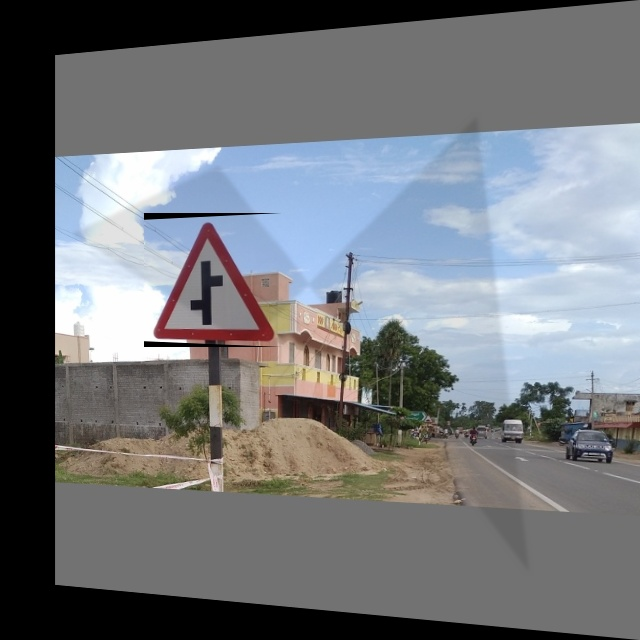Staggered_Intersection: (144, 213, 282, 347)
